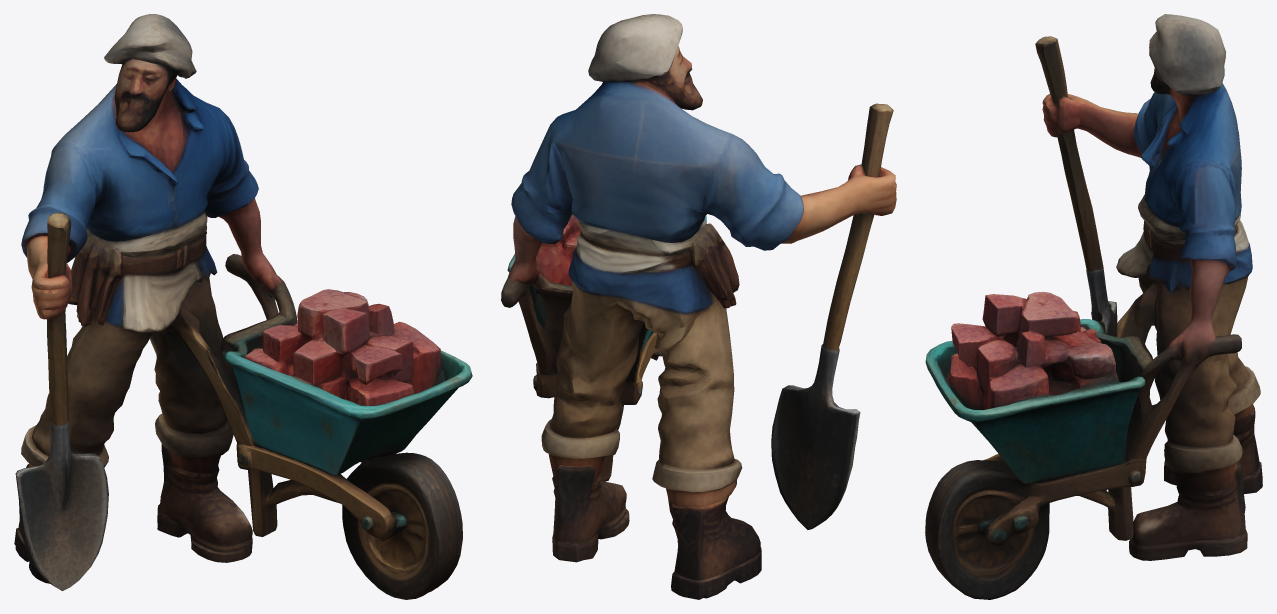
File: unit_worker_builder.glb
3 renders of one model, left to right at view 1: azimuth 30°, elevation 25°; view 2: azimuth 150°, elevation 25°; view 3: azimuth 270°, elevation 25°, orthographic. The views are drawn at different scales.
Parts seen in each view (by area): view 1: geometry_0; view 2: geometry_0; view 3: geometry_0.
Part boxes in pixels (<box>): geometry_0: <box>14,14,472,599</box>; geometry_0: <box>501,14,896,599</box>; geometry_0: <box>925,14,1262,599</box>.
Bounding box in the file's own units: 0.2329 × 0.3 × 0.1823.
Materials: 1 (1 with a texture image).
